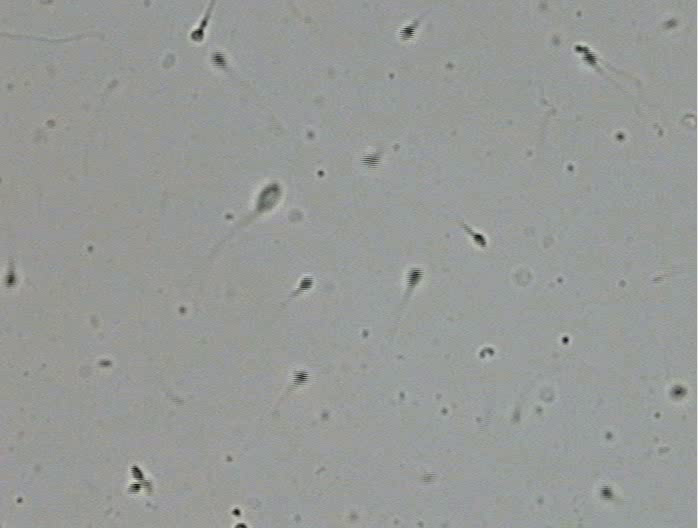S: (255, 182, 282, 213), (574, 45, 597, 66), (406, 268, 424, 288), (360, 154, 381, 168), (399, 25, 416, 41), (292, 370, 310, 385), (299, 275, 314, 292), (669, 385, 687, 399), (211, 52, 226, 68), (130, 465, 145, 481), (472, 232, 487, 248), (600, 485, 614, 500), (191, 27, 203, 42), (5, 273, 16, 287), (127, 483, 142, 493)
